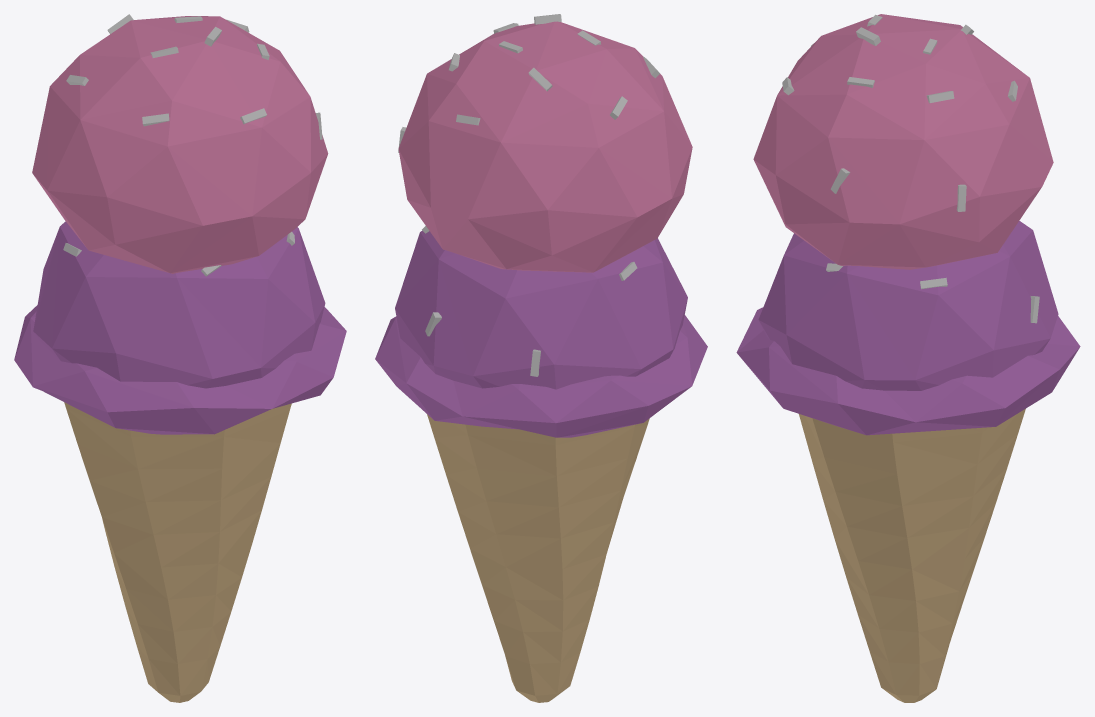
Rendered from IceCream_2.glb.
The picture shows the model from 3 angles, left to right: view 1: azimuth 30°, elevation 25°; view 2: azimuth 150°, elevation 25°; view 3: azimuth 270°, elevation 25°; orthographic projection.
Visible parts, largest first — view 1: IceCream_2; view 2: IceCream_2; view 3: IceCream_2.
Part boxes in pixels (x1,y1,x2,y2): IceCream_2: [14, 14, 346, 702]; IceCream_2: [375, 14, 707, 702]; IceCream_2: [736, 14, 1080, 702].
Bounding box in the file's own units: 0.7296 × 1.57 × 0.7296.
